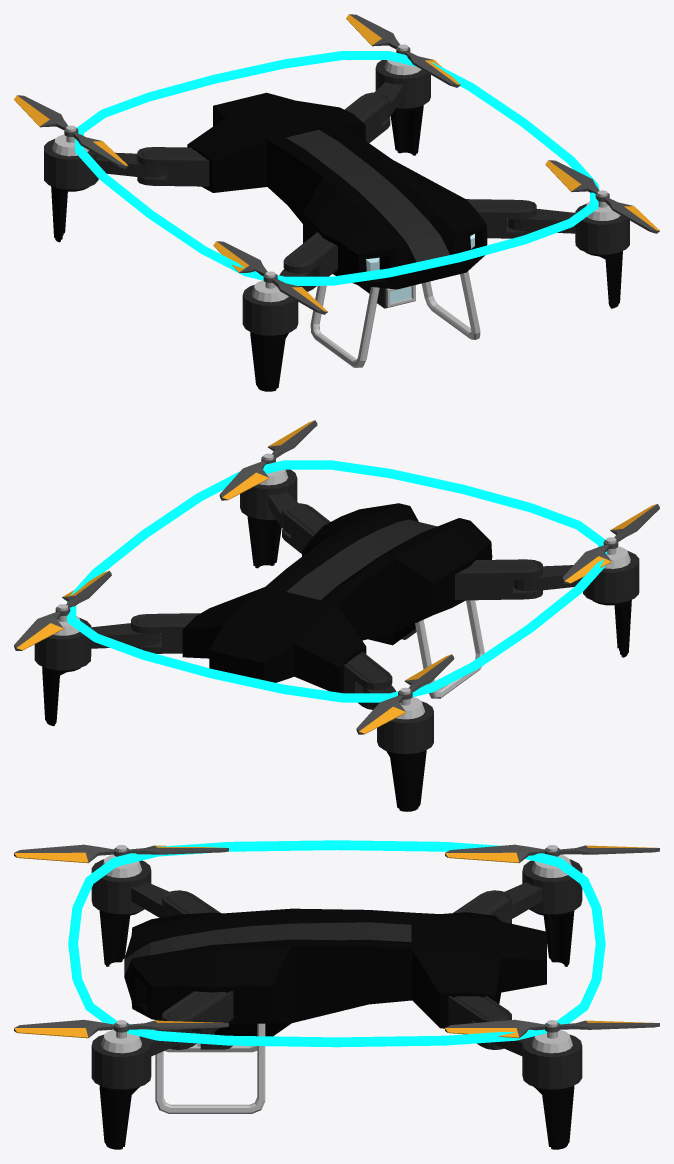
File: drone_perimeter_emissive.glb
3 views of the same model, one above another, from view 1: azimuth 30°, elevation 25°; view 2: azimuth 150°, elevation 25°; view 3: azimuth 270°, elevation 25° (orthographic). The views are drawn at different scales.
Parts seen in each view (by area): view 1: Body, LED_PERIMETER, Rotor_FL, Rotor_BR, Rotor_BL, Rotor_FR, Cube.002; view 2: Body, LED_PERIMETER, Rotor_BR, Rotor_FL, Rotor_BL, Rotor_FR; view 3: Body, LED_PERIMETER, Rotor_FL, Rotor_BR, Rotor_FR, Rotor_BL.
Part boxes in pixels (x1,y1,x2,y2): Body: [44, 44, 629, 391]; LED_PERIMETER: [75, 51, 598, 285]; Rotor_FL: [545, 160, 659, 233]; Rotor_BR: [14, 95, 128, 168]; Rotor_BL: [346, 14, 460, 87]; Rotor_FR: [213, 241, 327, 314]; Cube.002: [377, 285, 415, 308]; Body: [34, 453, 639, 811]; LED_PERIMETER: [67, 460, 607, 702]; Rotor_BR: [356, 654, 454, 734]; Rotor_FL: [219, 420, 317, 500]; Rotor_BL: [14, 570, 111, 650]; Rotor_FR: [562, 504, 659, 583]; Body: [91, 845, 582, 1149]; LED_PERIMETER: [68, 840, 605, 1047]; Rotor_FL: [14, 1019, 228, 1038]; Rotor_BR: [445, 844, 659, 863]; Rotor_FR: [14, 844, 228, 863]; Rotor_BL: [445, 1019, 659, 1038].
Size of the model in its own units: 0.576 by 0.2076 by 0.7813.
Materials: 2 (1 with a texture image).
